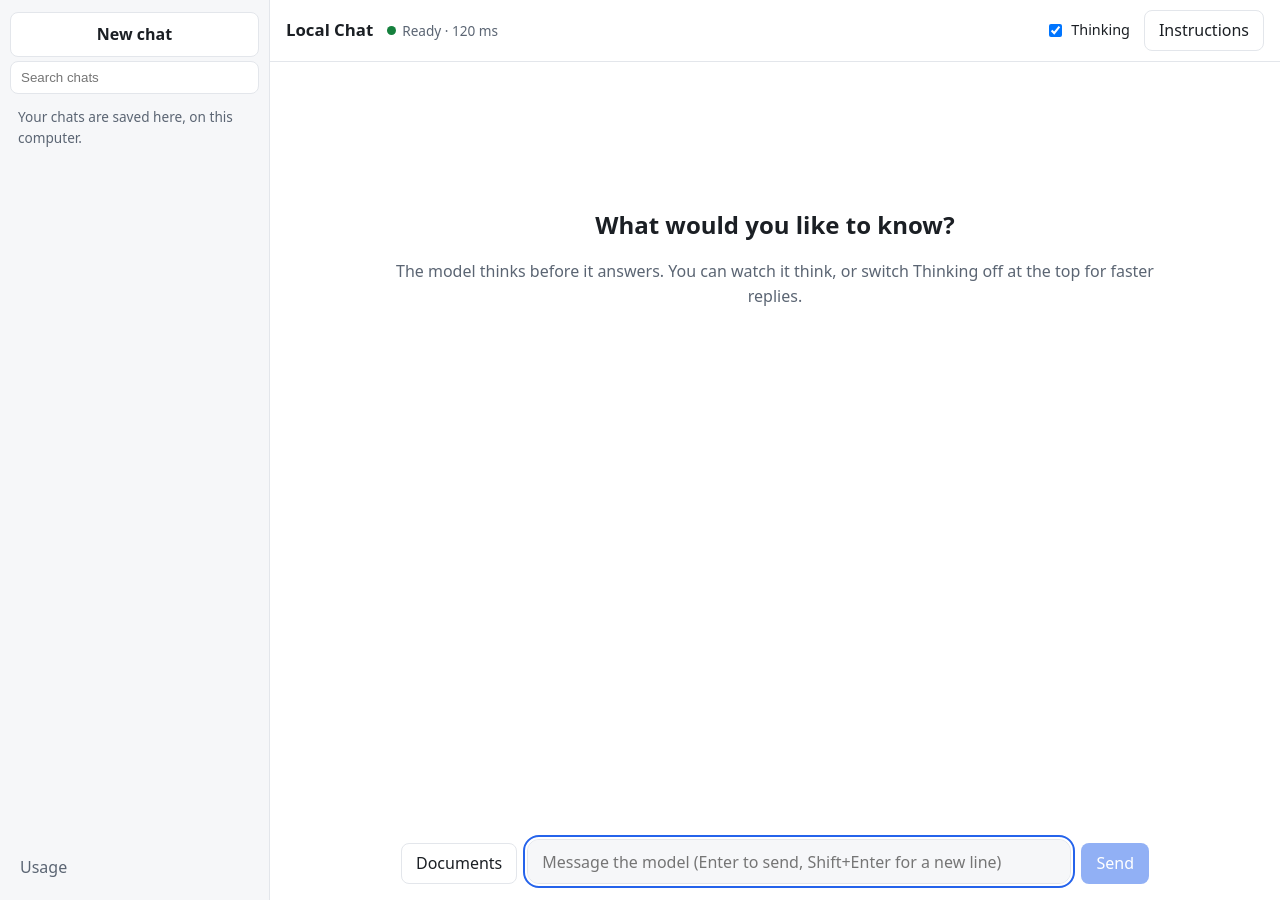
Scenario: documents › documents chosen in a new chat are attached when the chat is saved, before the question
Click the button "Documents".
click(459, 864)  # box [401,843,517,884]
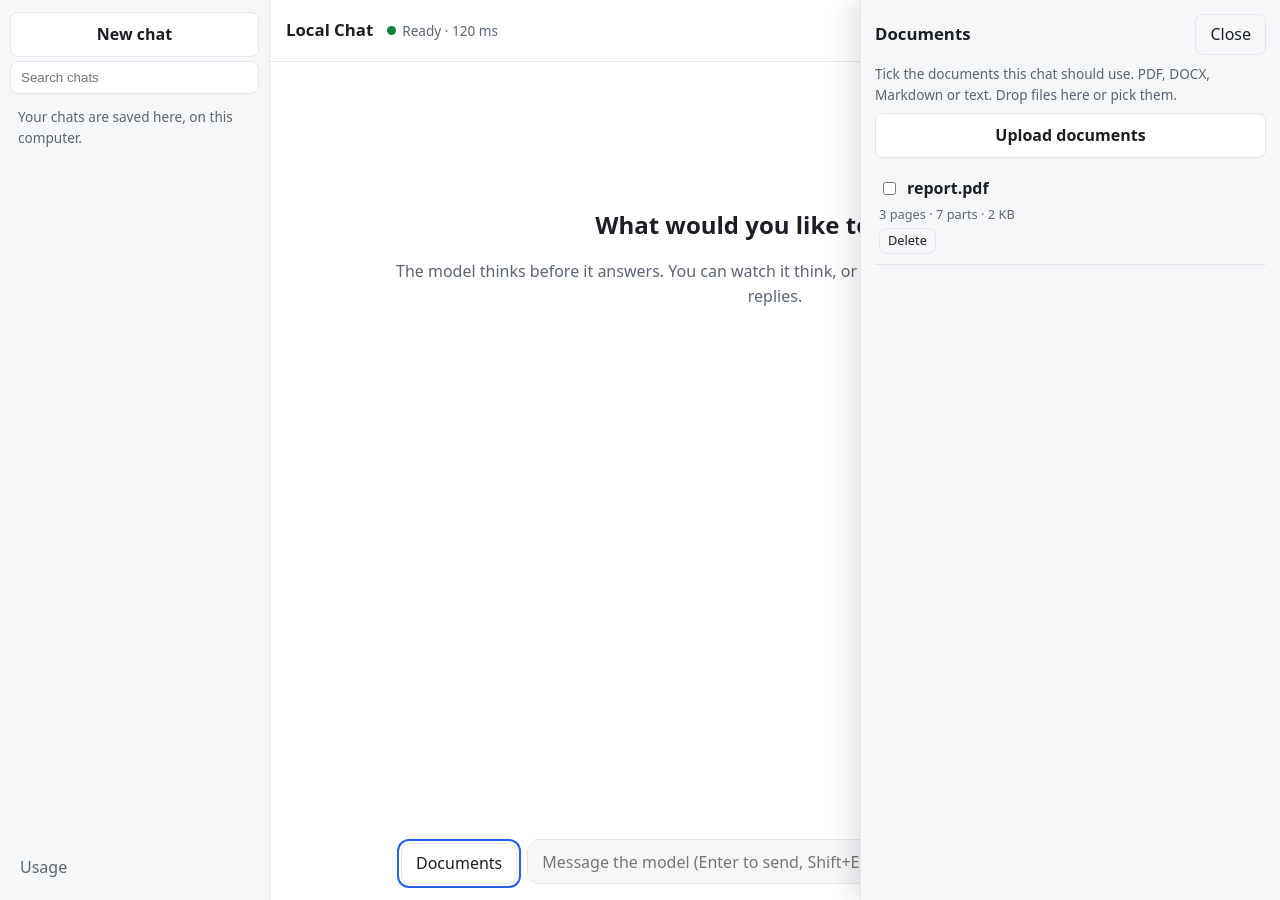
Click the checkbox named "Use report.pdf in this chat".
click(890, 188)  # box [883,182,896,195]
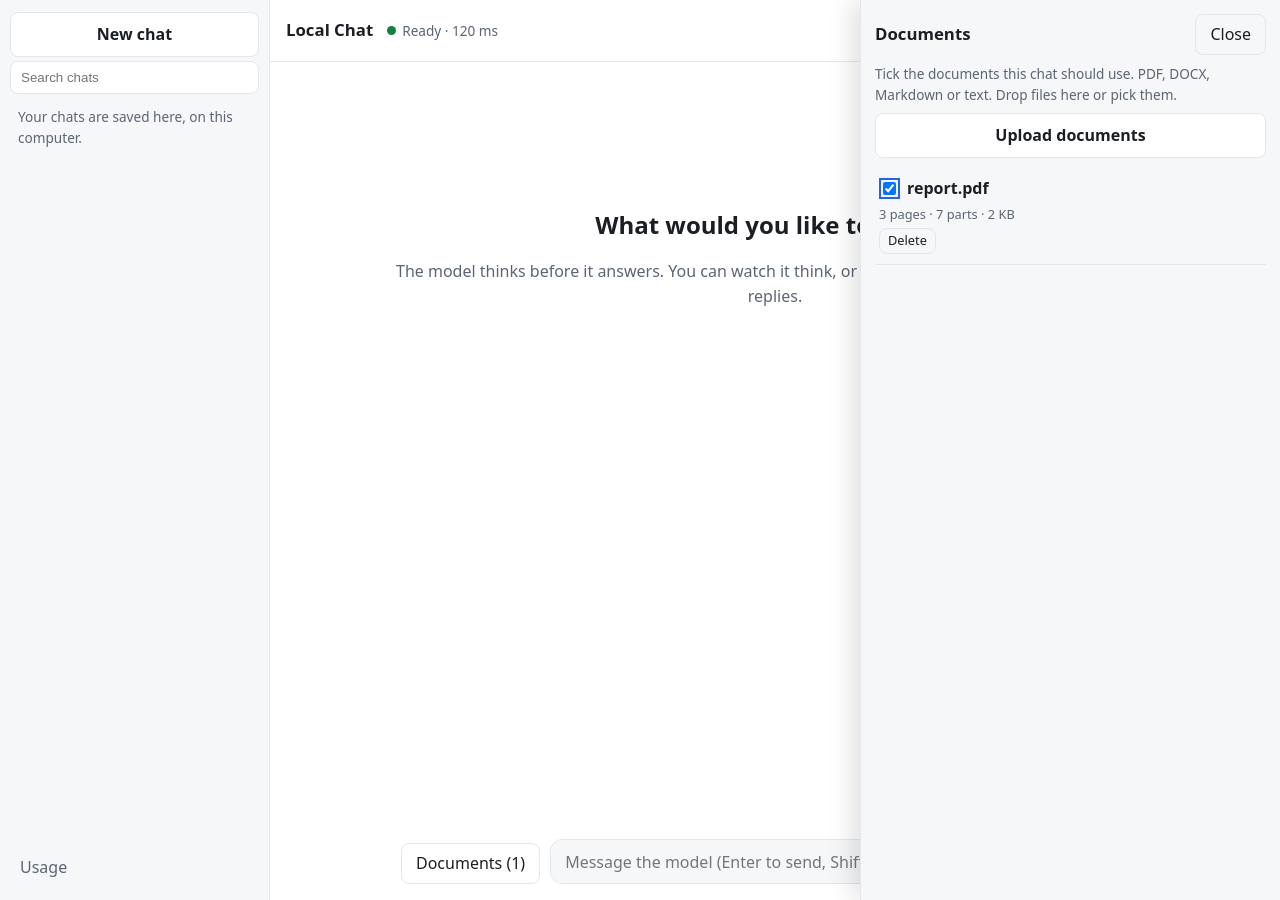
Type "what is in it?" into the text box labelled "Message".
click(811, 862); type("what is in it?")  # box [550,839,1072,884]
Then press Enter
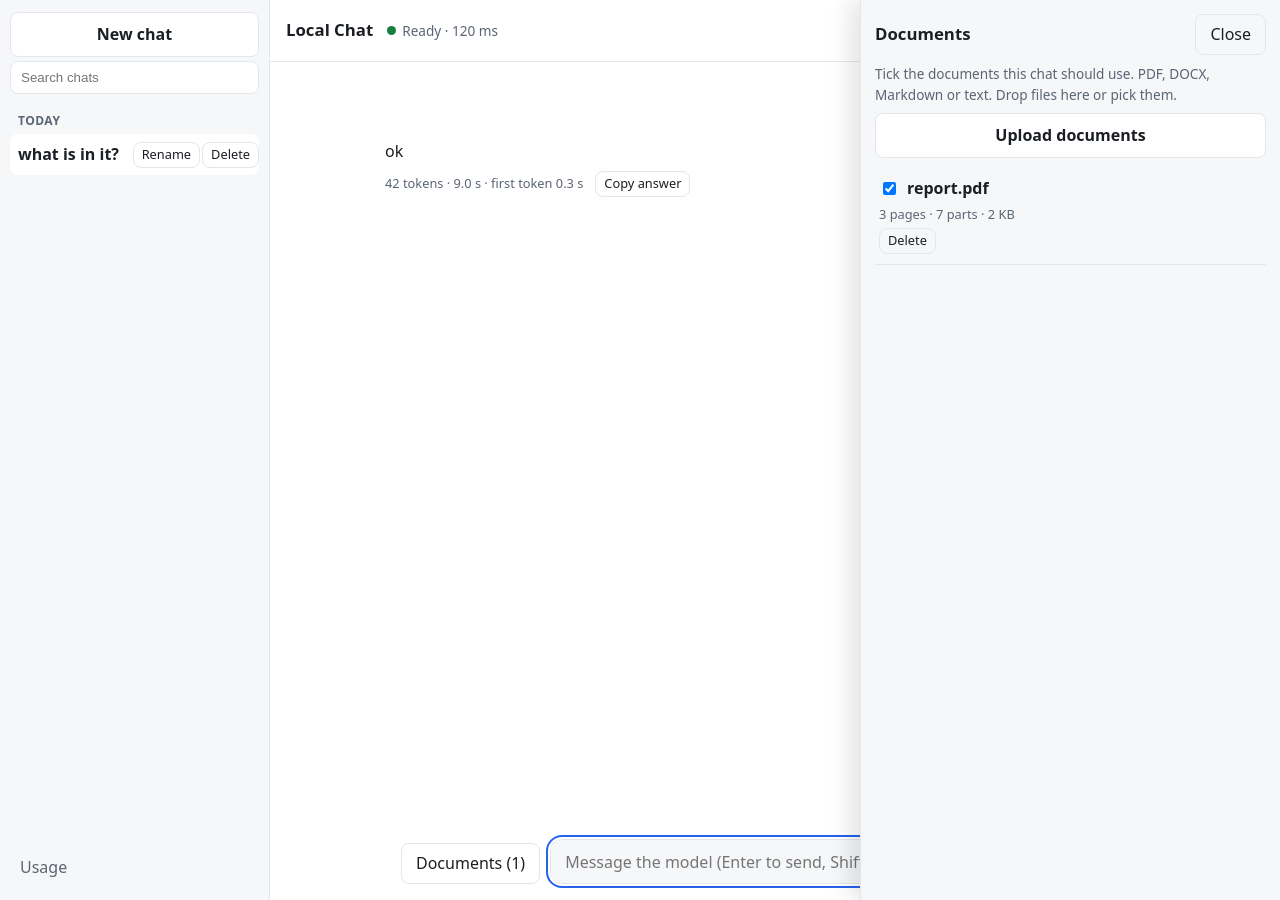
Result: the checkbox named "Use report.pdf in this chat" is checked at [883,182,896,195]
Result: the text "ok" is shown at [385,140,403,162]
